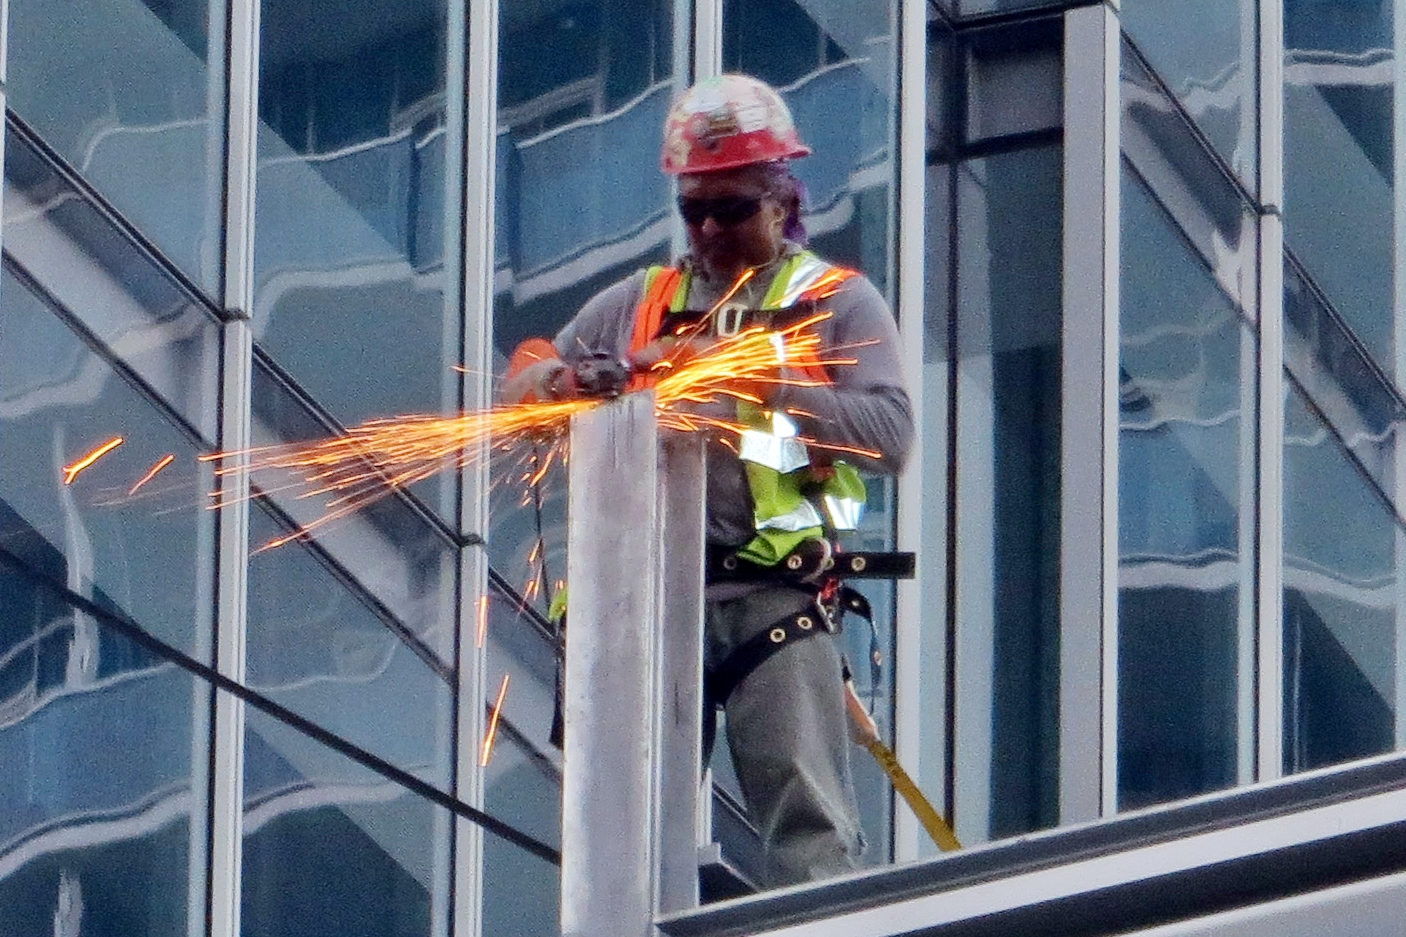Hard Hat: (664, 74, 801, 277)
Person: (517, 65, 880, 890)
Vest: (630, 164, 868, 572)
